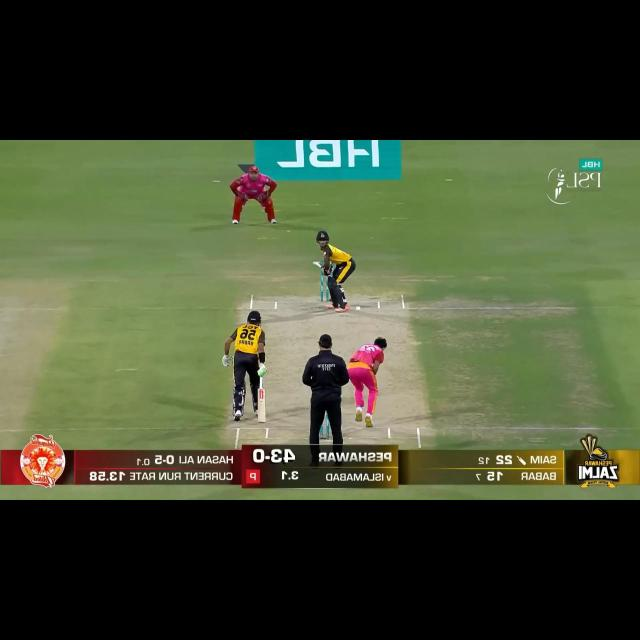bat: (257, 387, 267, 425), (311, 258, 324, 268)
toe: (256, 418, 267, 424), (311, 259, 318, 265)
